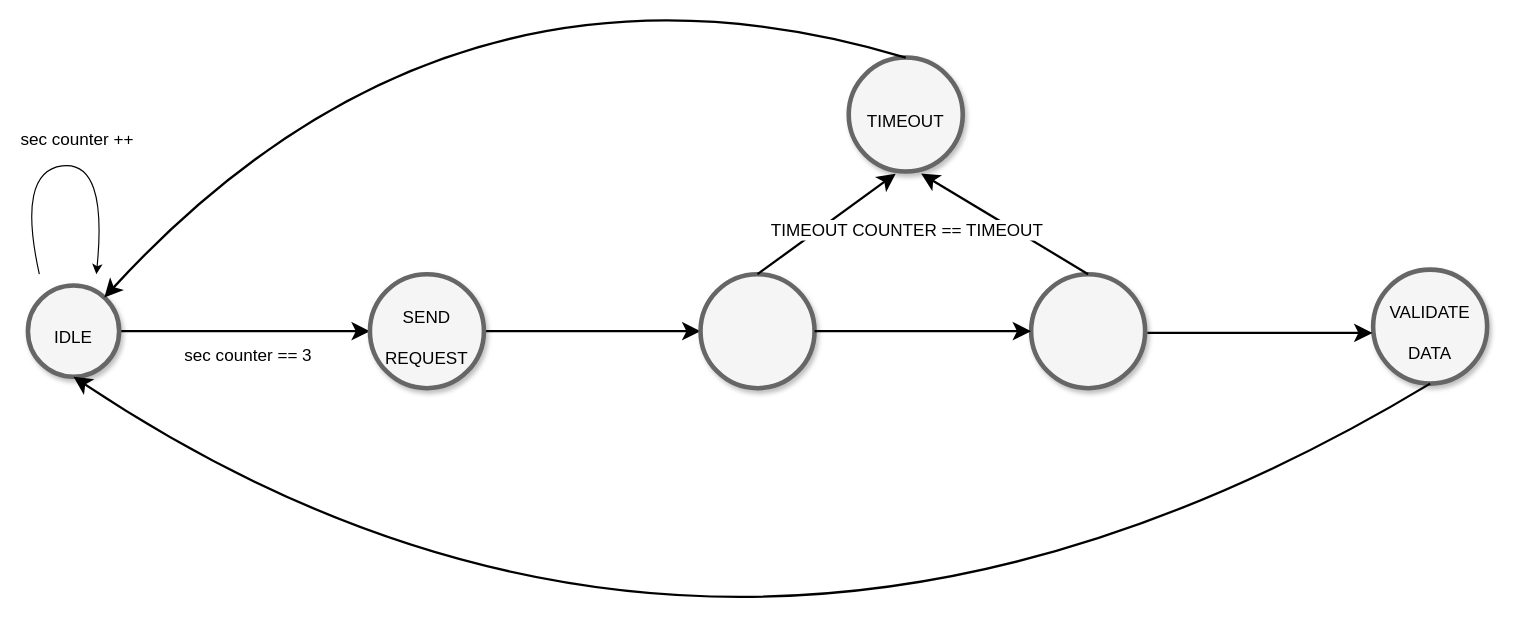
The diagram is 1515 pixels wide and 618 high, and some of its shapes have lost their labels. Here are the shapes that lost their labels. From the top down, the centre of each, then its label:
At point (758, 332): "WAIT RESPONSE".
At point (1089, 332): "READ DATA".
